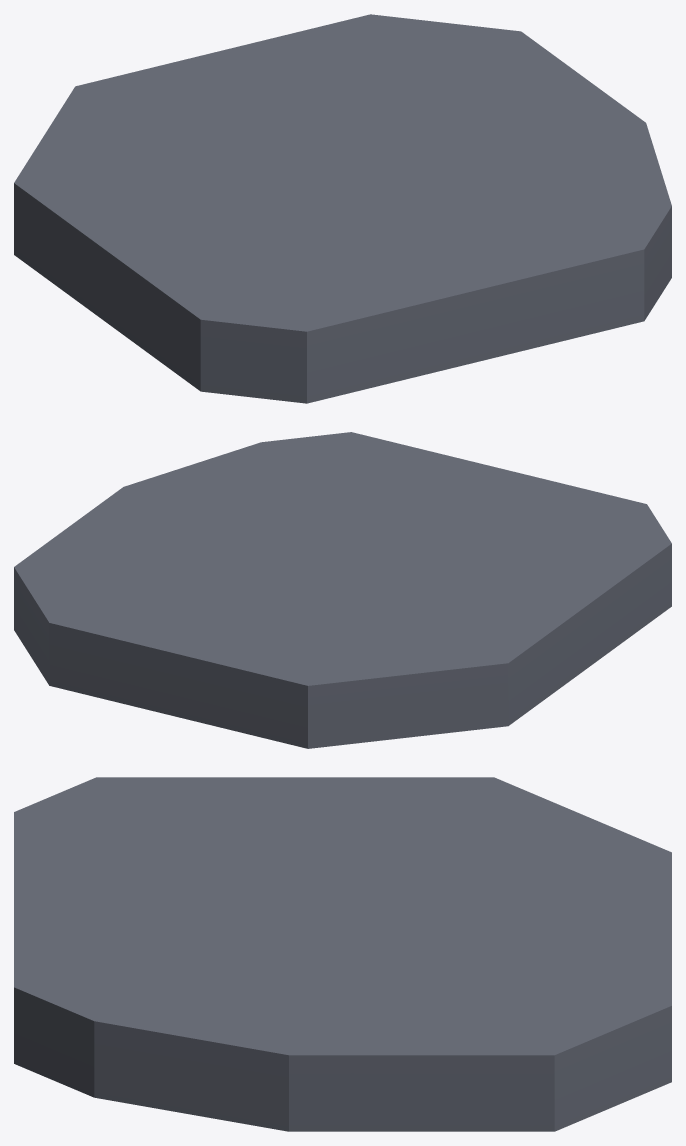
Rendered from Tile_03.fbx.
3 renders of one model, top to bottom at view 1: azimuth 30°, elevation 25°; view 2: azimuth 150°, elevation 25°; view 3: azimuth 270°, elevation 25°, orthographic. The views are drawn at different scales.
Parts seen in each view (by area): view 1: Tile_03; view 2: Tile_03; view 3: Tile_03.
Part boxes in pixels (x1,y1,x2,y2): Tile_03: (14, 14, 671, 403); Tile_03: (14, 432, 671, 748); Tile_03: (14, 777, 671, 1131).
Size of the model in its own units: 0.4025 by 0.0516 by 0.4025.
